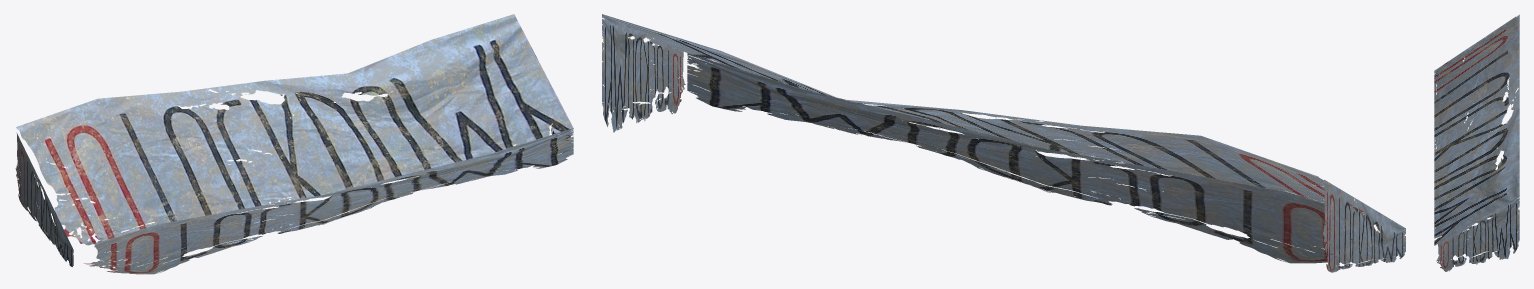
File: SM_Shop_Canopy_03.FBX
3 renders of one model, left to right at view 1: azimuth 30°, elevation 25°; view 2: azimuth 150°, elevation 25°; view 3: azimuth 270°, elevation 25°, orthographic. The views are drawn at different scales.
Parts seen in each view (by area): view 1: SM_Shop_Canopy_03; view 2: SM_Shop_Canopy_03; view 3: SM_Shop_Canopy_03.
Boxes of the visible parts, left/top/right/bottom form: SM_Shop_Canopy_03: left=15, top=14, right=573, bottom=274; SM_Shop_Canopy_03: left=602, top=14, right=1405, bottom=272; SM_Shop_Canopy_03: left=1434, top=14, right=1519, bottom=271.
Bounding box in the file's own units: 12.14 × 3.09 × 2.5.
